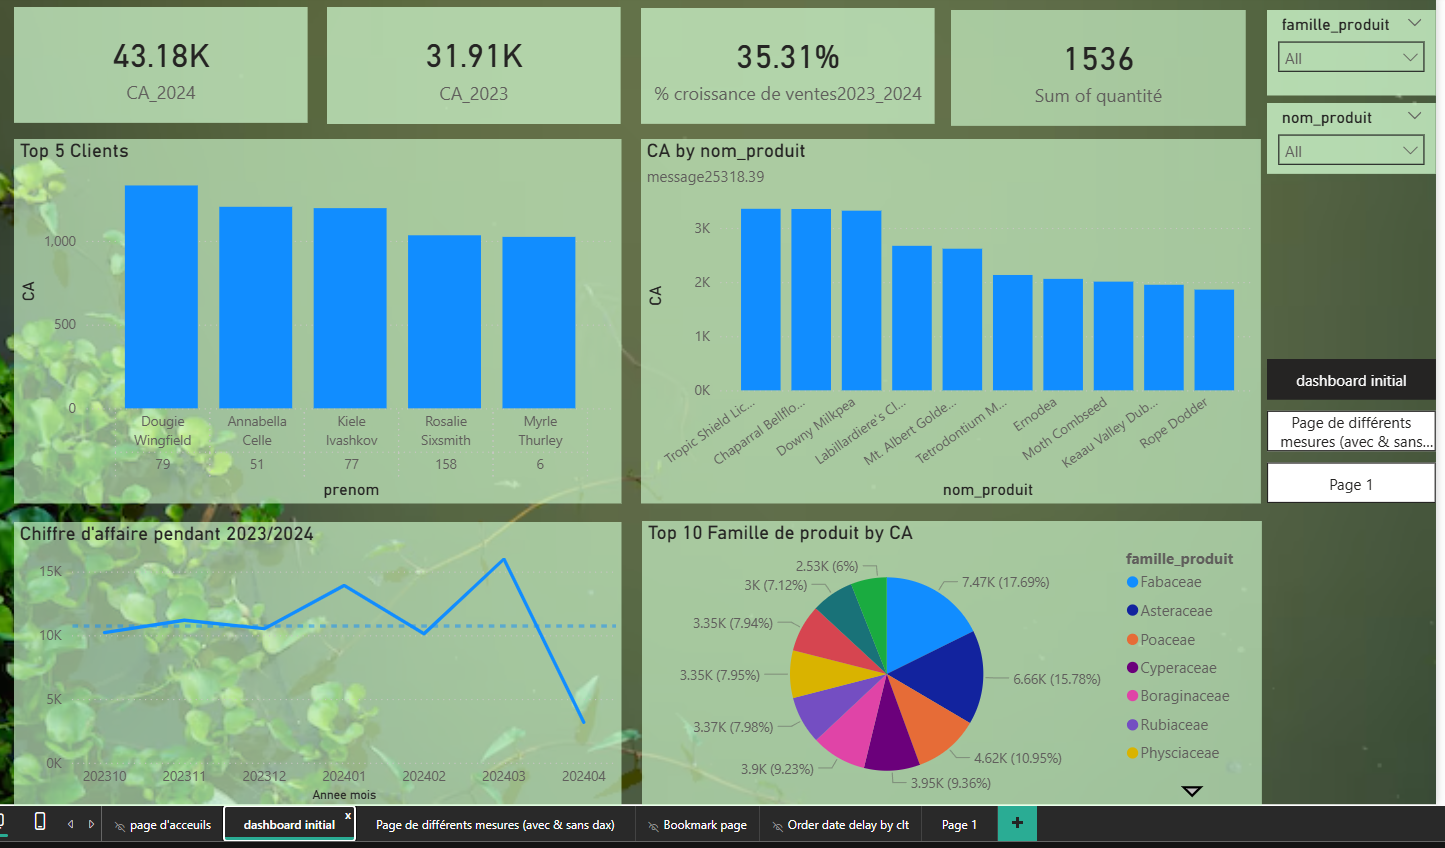

The page's visual inventory and layout, read from the dashboard file:
{"tool":"powerbi","page":{"name":"dashboard initial","canvas":[1280,720],"ordinal":1},"visuals":[{"type":"lineChart","title":"Chiffre d''affaire pendant 2023/2024","fields":{"Category":["Date 2023-2024.Annee mois"],"Y":["ventes 2023-2024.CA"]},"box":[15.7,467.3,539.9,253],"z":0},{"type":"clusteredColumnChart","title":"Top 5 Clients","fields":{"Category":["clients.id_client","clients.nom","clients.prenom"],"Y":["ventes 2023-2024.CA"]},"box":[15.7,127.1,539.9,324.4],"z":1000},{"type":"clusteredColumnChart","fields":{"Category":["produits.nom_produit"],"Y":["ventes 2023-2024.CA"]},"box":[573.8,127.1,550.8,324.4],"z":2000},{"type":"card","fields":{"Values":["ventes 2023-2024.CA_2024"]},"box":[15.7,9.7,261.5,102.9],"z":3000},{"type":"card","fields":{"Values":["ventes 2023-2024.CA_2023"]},"box":[294.2,9.7,261.5,104.1],"z":4000},{"type":"card","fields":{"Values":["ventes 2023-2024.% croissance de ventes2023_2024"]},"box":[573.8,10.9,261.5,102.9],"z":5000},{"type":"card","fields":{"Values":["Sum(ventes 2023-2024.quantité)"]},"box":[849,12,262,103],"z":6000},{"type":"slicer","fields":{"Values":["produits.nom_produit"]},"box":[1129.8,95.1,150.2,63.1],"z":7000},{"type":"pieChart","title":"Top 10 Famille de produit by CA","fields":{"Category":["produits.famille_produit"],"Y":["ventes 2023-2024.CA"]},"box":[574,467,551,253],"z":8000},{"type":"slicer","fields":{"Values":["produits.famille_produit"]},"box":[1129.8,12.4,150.2,75.6],"z":9000},{"type":"pageNavigator","box":[1129.8,322.7,150.2,128.9],"z":10000}]}

Visuals, with their boxes in screenshot pixels (x1, y1, x2, y2):
"Chiffre d''affaire pendant 2023/2024" lineChart: (17,516,619,798)
"Top 5 Clients" clusteredColumnChart: (17,138,619,499)
clusteredColumnChart - produits.nom_produit x ventes 2023-2024.CA: (639,138,1252,499)
card - ventes 2023-2024.CA_2024: (17,7,309,122)
card - ventes 2023-2024.CA_2023: (328,7,619,123)
card - ventes 2023-2024.% croissance de ventes2023_2024: (639,8,930,123)
card - Sum(ventes 2023-2024.quantité): (945,10,1237,124)
slicer - produits.nom_produit: (1258,102,1425,172)
"Top 10 Famille de produit by CA" pieChart: (639,516,1252,798)
slicer - produits.famille_produit: (1258,10,1425,94)
pageNavigator: (1258,356,1425,499)
